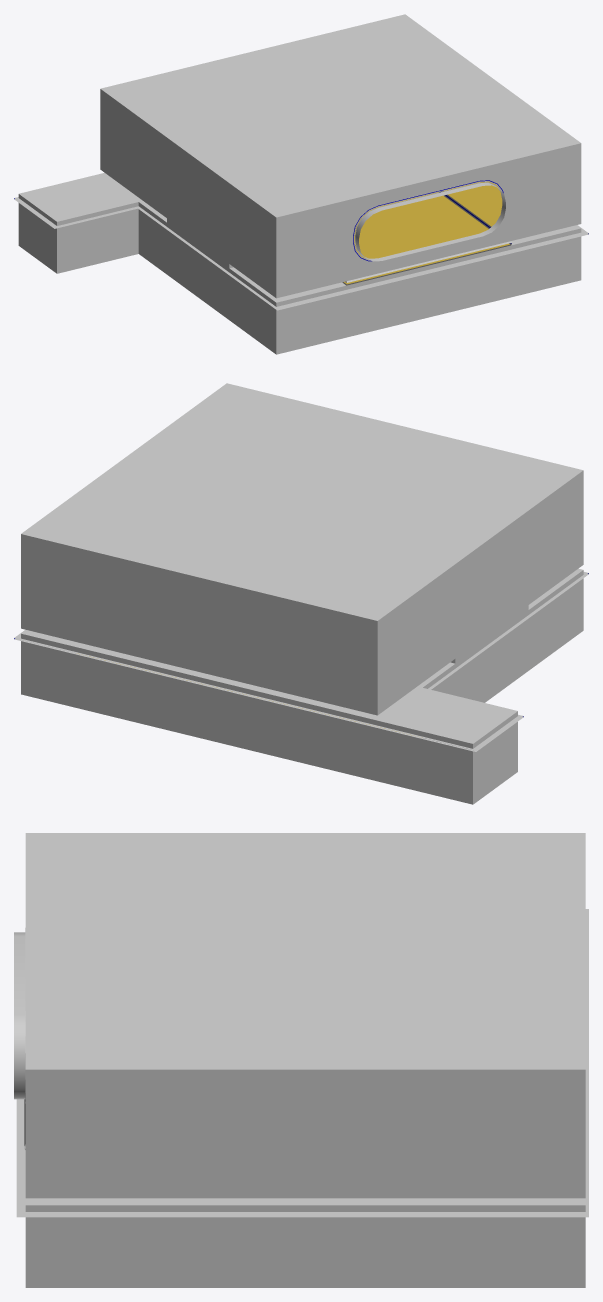
Rendered from Room.fbx.
3 views of the same model, one above another, from view 1: azimuth 30°, elevation 25°; view 2: azimuth 150°, elevation 25°; view 3: azimuth 270°, elevation 25° (orthographic). The views are drawn at different scales.
Parts seen in each view (by area): view 1: Room; view 2: Room; view 3: Room.
Part boxes in pixels (left/top/right/bottom): Room: left=14, top=14, right=588, bottom=354; Room: left=14, top=383, right=588, bottom=804; Room: left=14, top=833, right=588, bottom=1287.
Bounding box in the file's own units: 22.02 × 7.3 × 17.46.
